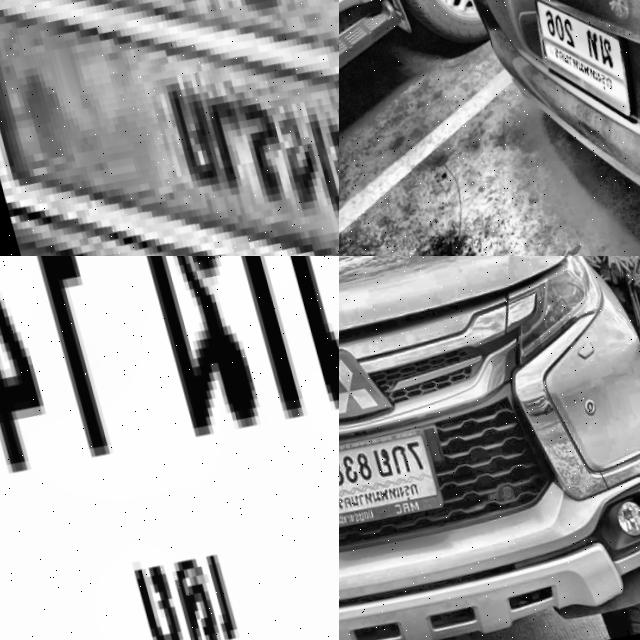license-plate: (0, 256, 339, 640), (0, 0, 339, 256), (518, 0, 640, 137), (339, 416, 442, 541)
